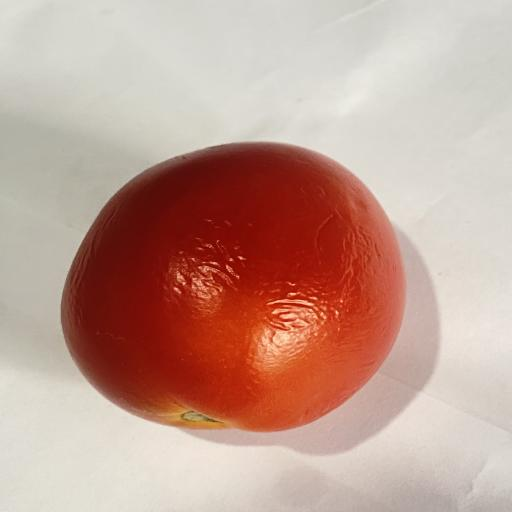spoiled: (61, 143, 405, 431)
